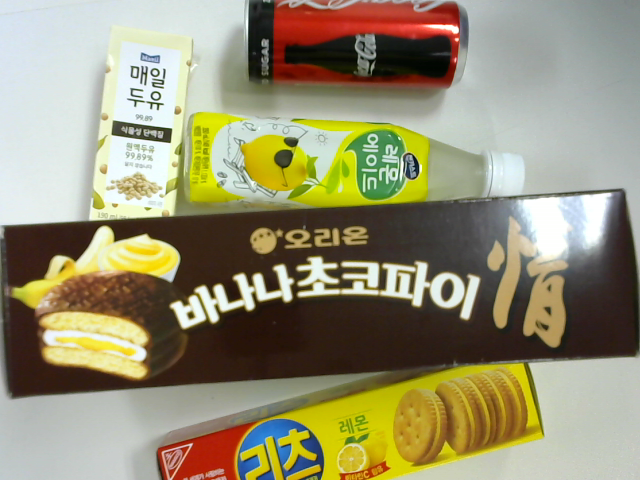99.89_Soymilk: (86, 12, 196, 232)
Choco_Pie_Banana: (1, 187, 640, 407)
Coca_Cola_Zero_Can_250ml: (225, 1, 479, 105)
Ritz_Remon_96g: (144, 348, 550, 480)
Sunkist_Lemonaid_Pet: (184, 99, 536, 233)
